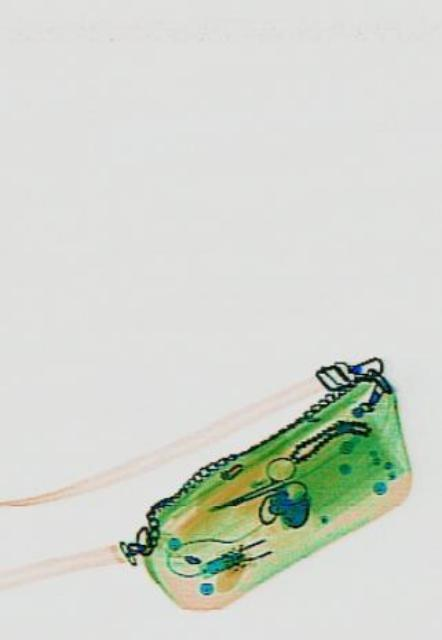Scissors: (202, 446, 306, 534)
